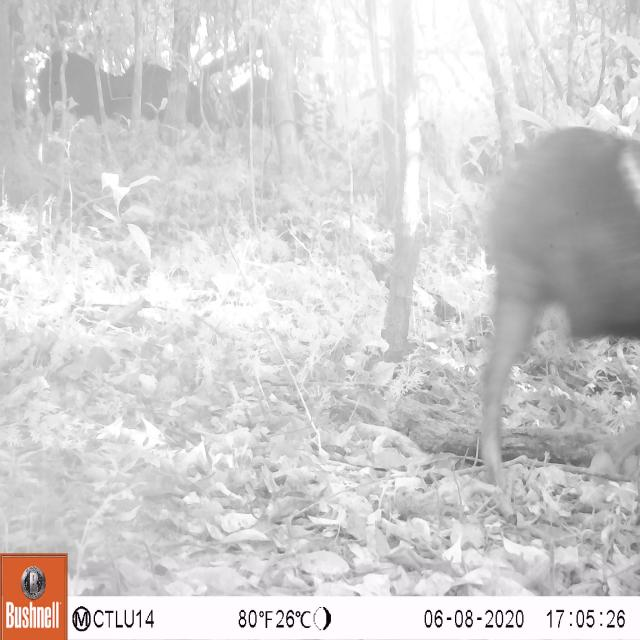White-lipped Peccary: (470, 126, 640, 486)
